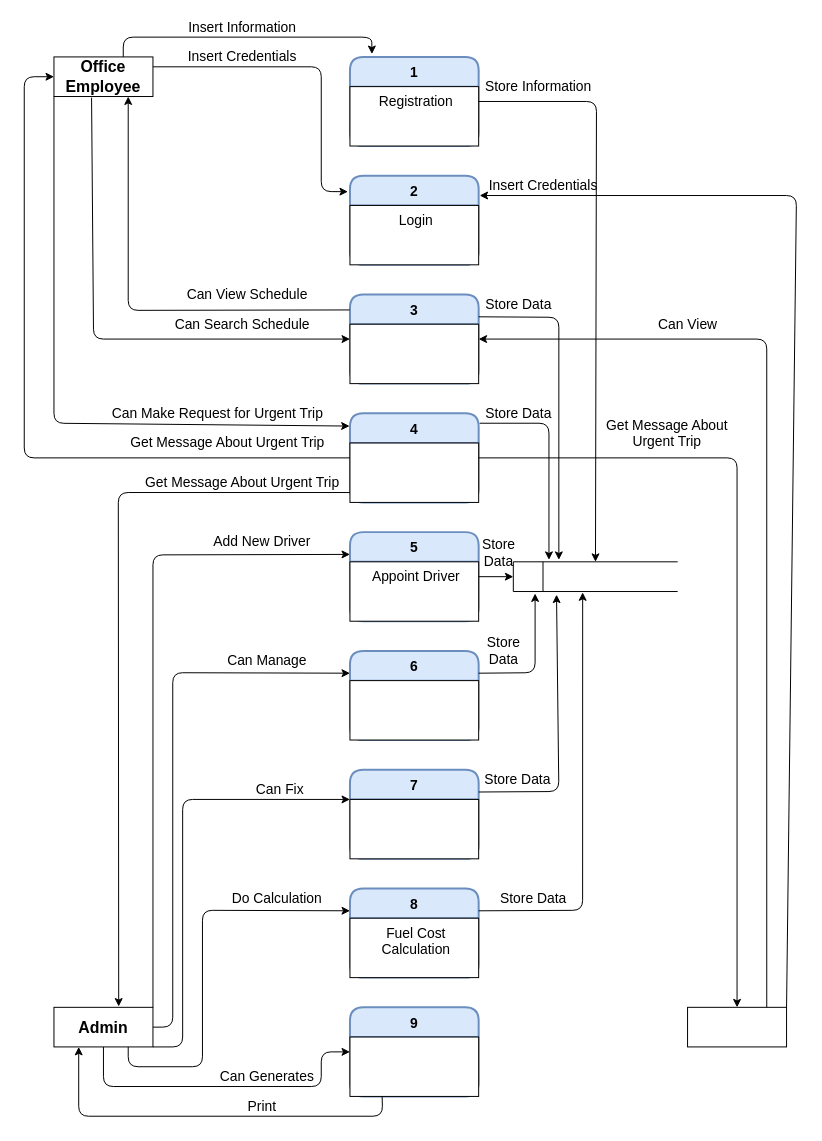
Image size: 822x1141. Some labels were removed from this diagram. Each missing label, with the centre of its shape:
"D1 TSM Database" goes at [595,576].
"Driver" goes at [737,1026].
"Location" goes at [414,828].
"Report" goes at [414,1066].
"Schedule" goes at [414,353].
"Transport" goes at [414,710].
"Trip Request" goes at [414,472].
